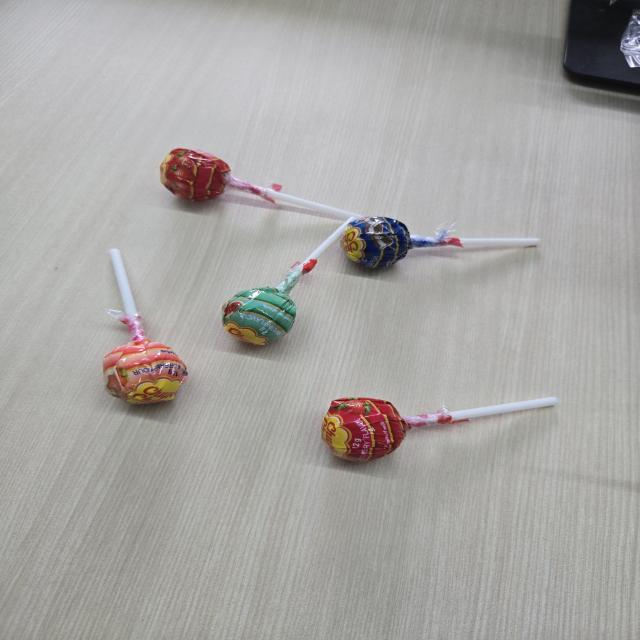lollipop: (216, 217, 358, 354), (320, 391, 560, 469), (156, 143, 364, 225), (98, 243, 192, 415), (337, 216, 541, 277)
